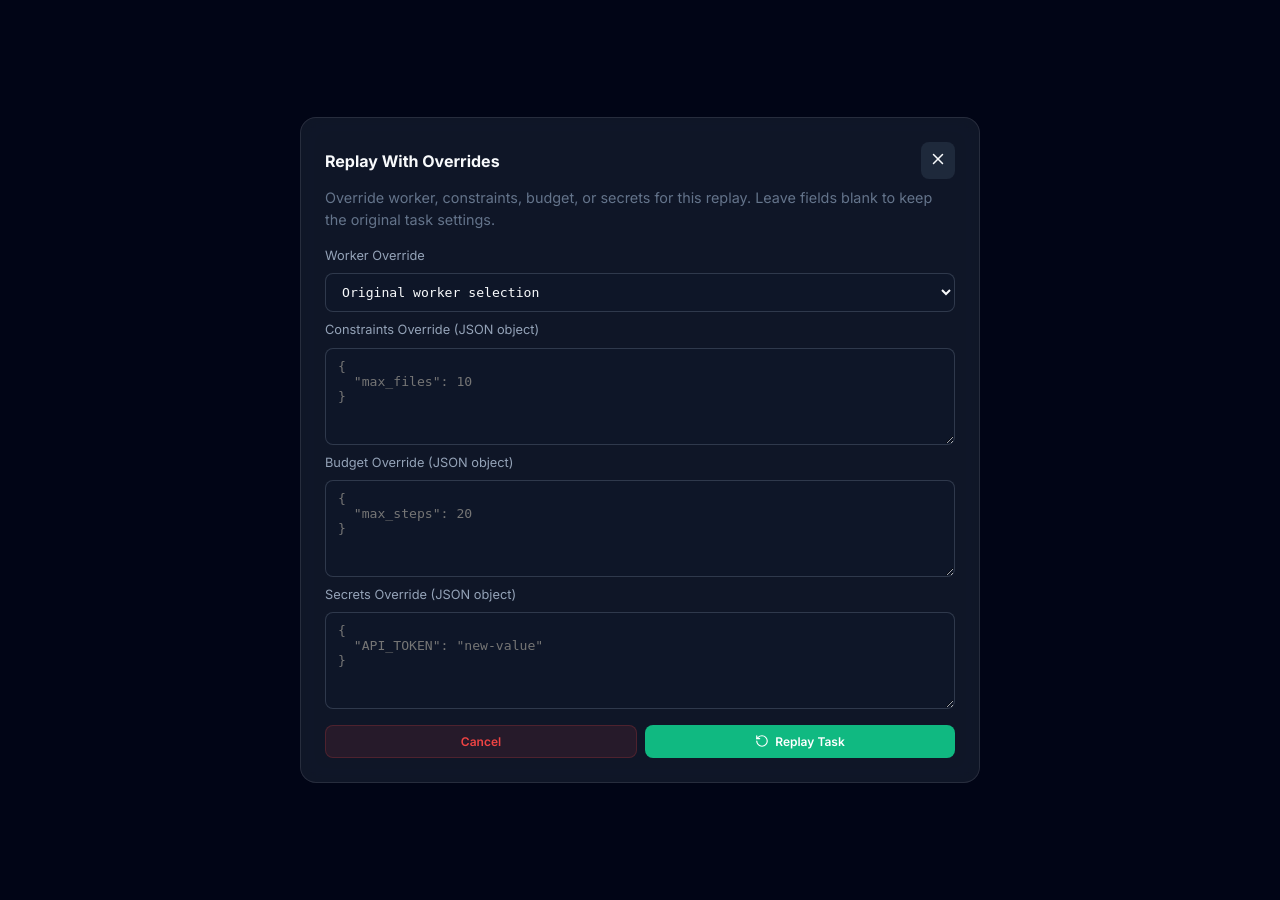
Test case: ReplayWithOverridesModal › renders API submission errors
This screenshot has width=1280, height=900.
Click the button "Replay Task" at (800, 742), box [645,725,955,758]
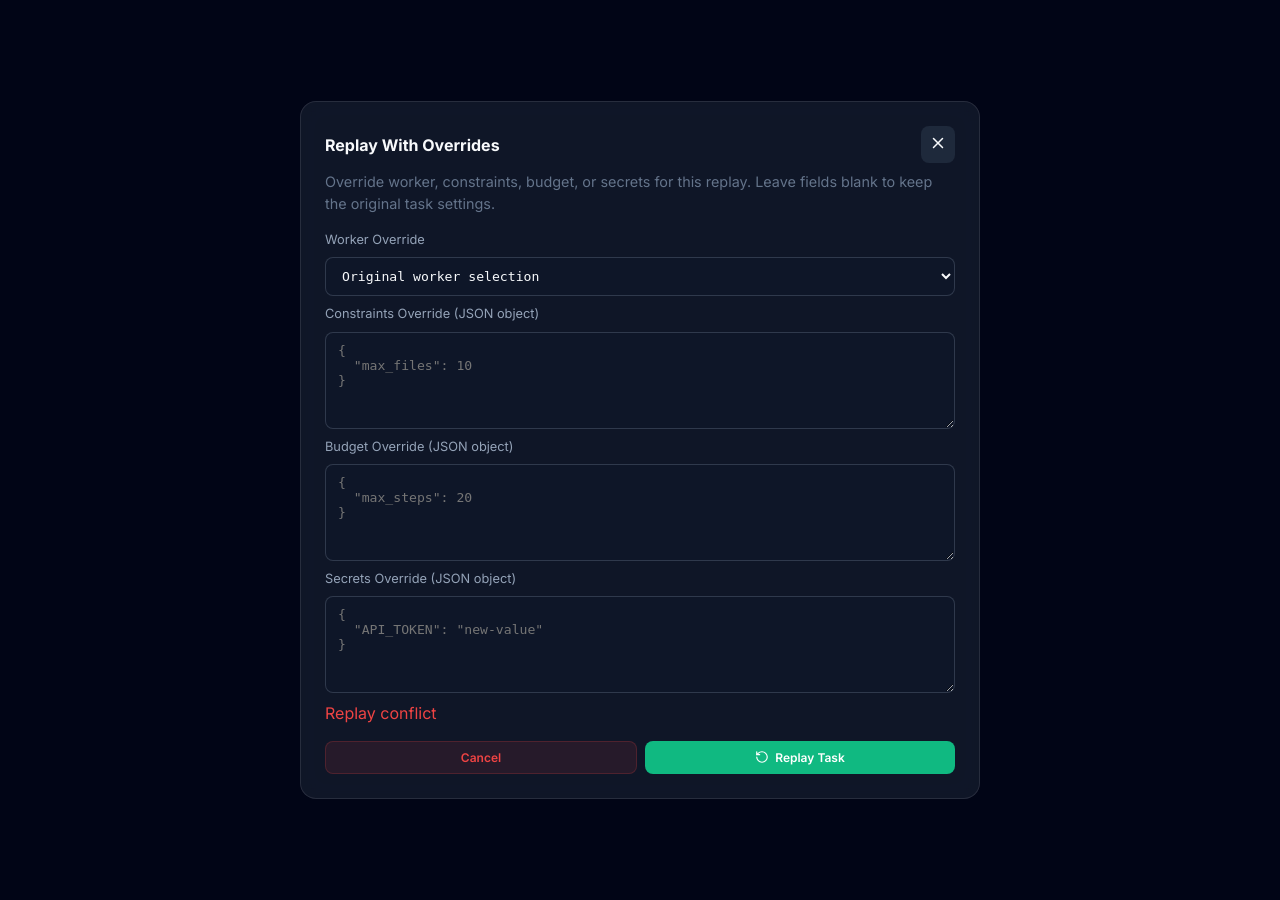
Result: the text "Replay conflict" is shown at [325,703,436,723]
